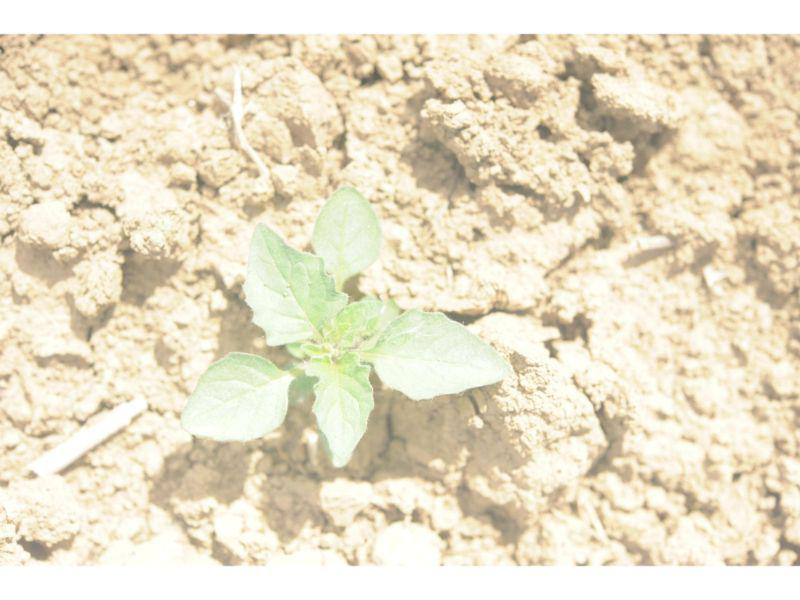nightshade: (179, 186, 507, 468)
